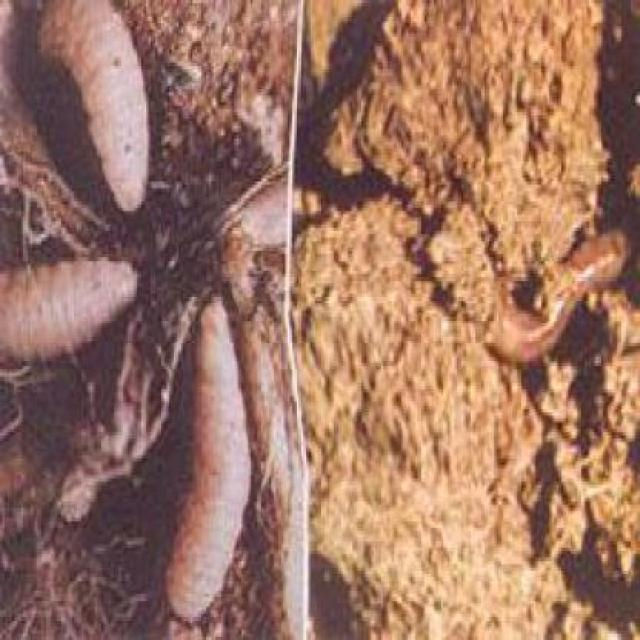whorl-maggot: (160, 304, 253, 624), (35, 0, 156, 213), (0, 257, 146, 361)
